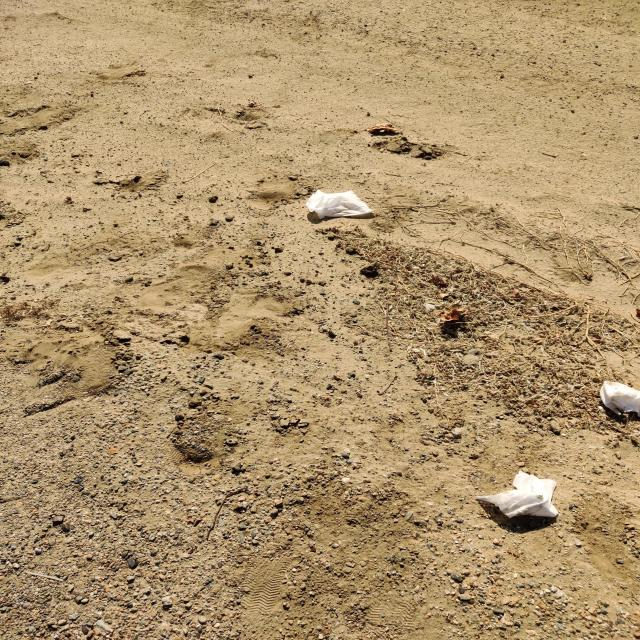litter: (475, 470, 557, 518), (303, 190, 375, 220), (601, 380, 637, 411)
